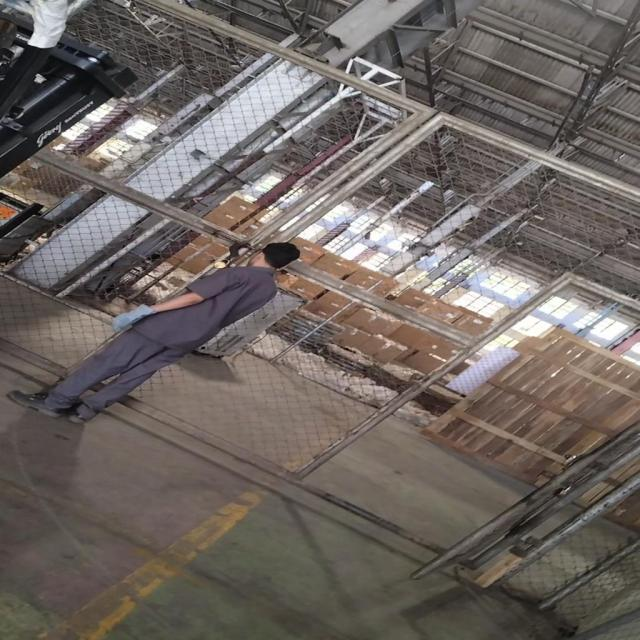Gloves-Detection: (102, 302, 154, 338)
